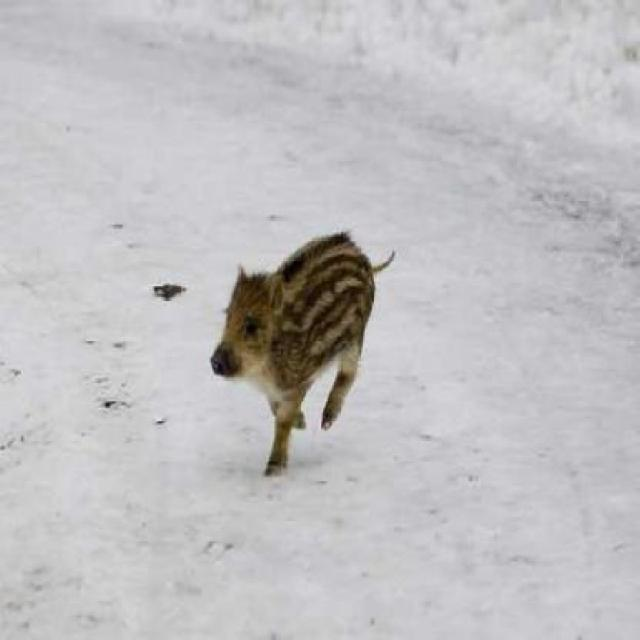Boar: (186, 222, 432, 463)
